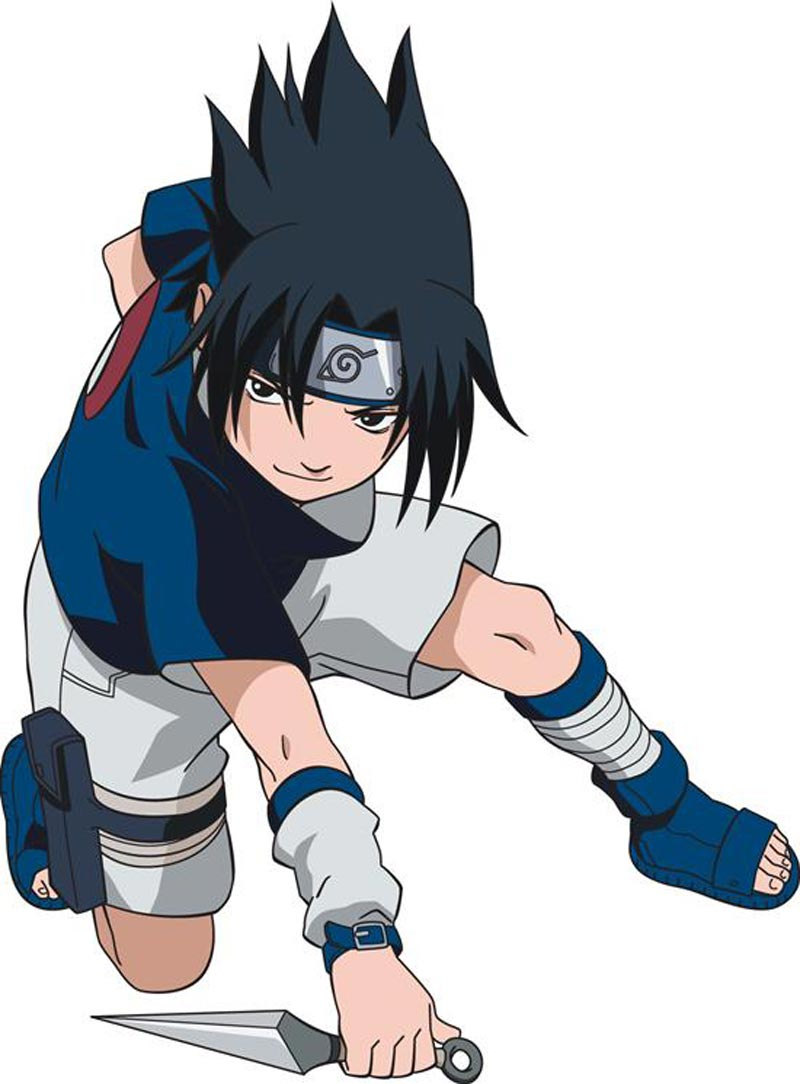sasuke: (194, 281, 435, 505)
